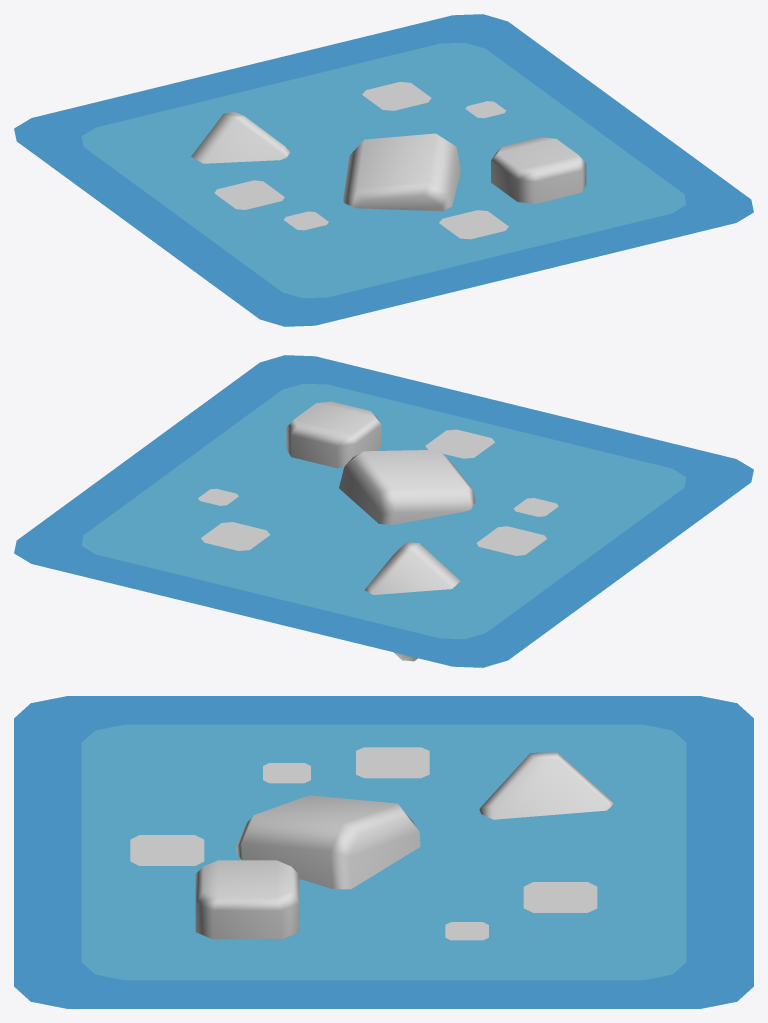
Rendered from BC_cookrecipe_05.fbx.
The picture shows the model from 3 angles, top to bottom: view 1: azimuth 30°, elevation 25°; view 2: azimuth 150°, elevation 25°; view 3: azimuth 270°, elevation 25°; orthographic projection. The views are drawn at different scales.
Parts seen in each view (by area): view 1: base, cube2, cube1, cube3, boko4, boko2, boko1, boko8; view 2: base, cube2, cube1, cube3, boko4, boko1, boko2, boko8; view 3: base, cube2, cube1, cube3, boko4, boko2, boko1, boko8, boko7.
Part boxes in pixels (x1,y1,x2,y2): base: (14,14,753,326); cube2: (343,133,460,211); cube1: (491,137,586,203); cube3: (191,111,290,163); boko4: (214,180,284,209); boko2: (439,210,508,239); boko1: (362,82,431,110); boko8: (284,211,328,230); base: (14,355,753,667); cube2: (339,449,475,524); cube1: (286,401,381,468); cube3: (364,542,459,661); boko4: (476,526,546,555); boko1: (201,522,269,550); boko2: (425,429,494,458); boko8: (513,498,558,516); base: (14,696,753,1008); cube2: (236,795,420,889); cube1: (195,860,299,939); cube3: (479,752,614,819); boko4: (356,747,429,778); boko2: (130,835,204,865); boko1: (523,882,597,912); boko8: (263,763,310,783); boko7: (445,922,488,940).
Size of the model in its own units: 3.5 by 0.8223 by 3.5.
